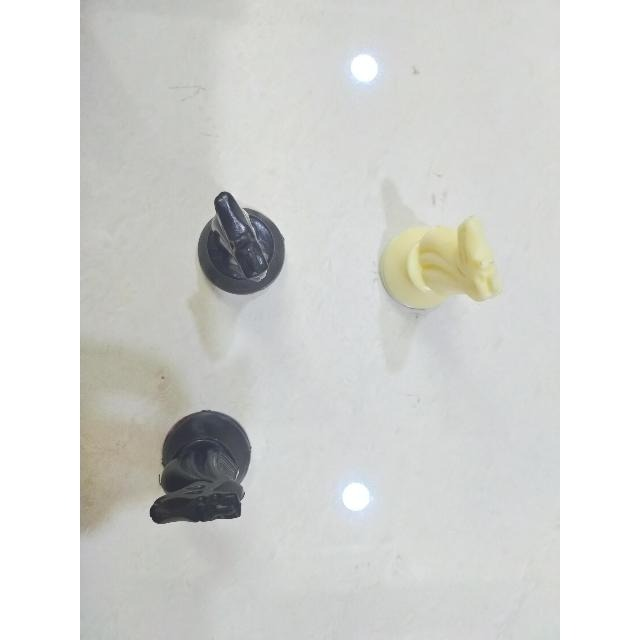black-knight: (143, 404, 253, 528), (191, 188, 288, 295)
white-knight: (380, 210, 506, 313)
